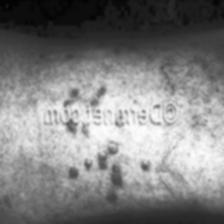Toxin: (110, 161, 120, 189), (70, 164, 78, 183)
